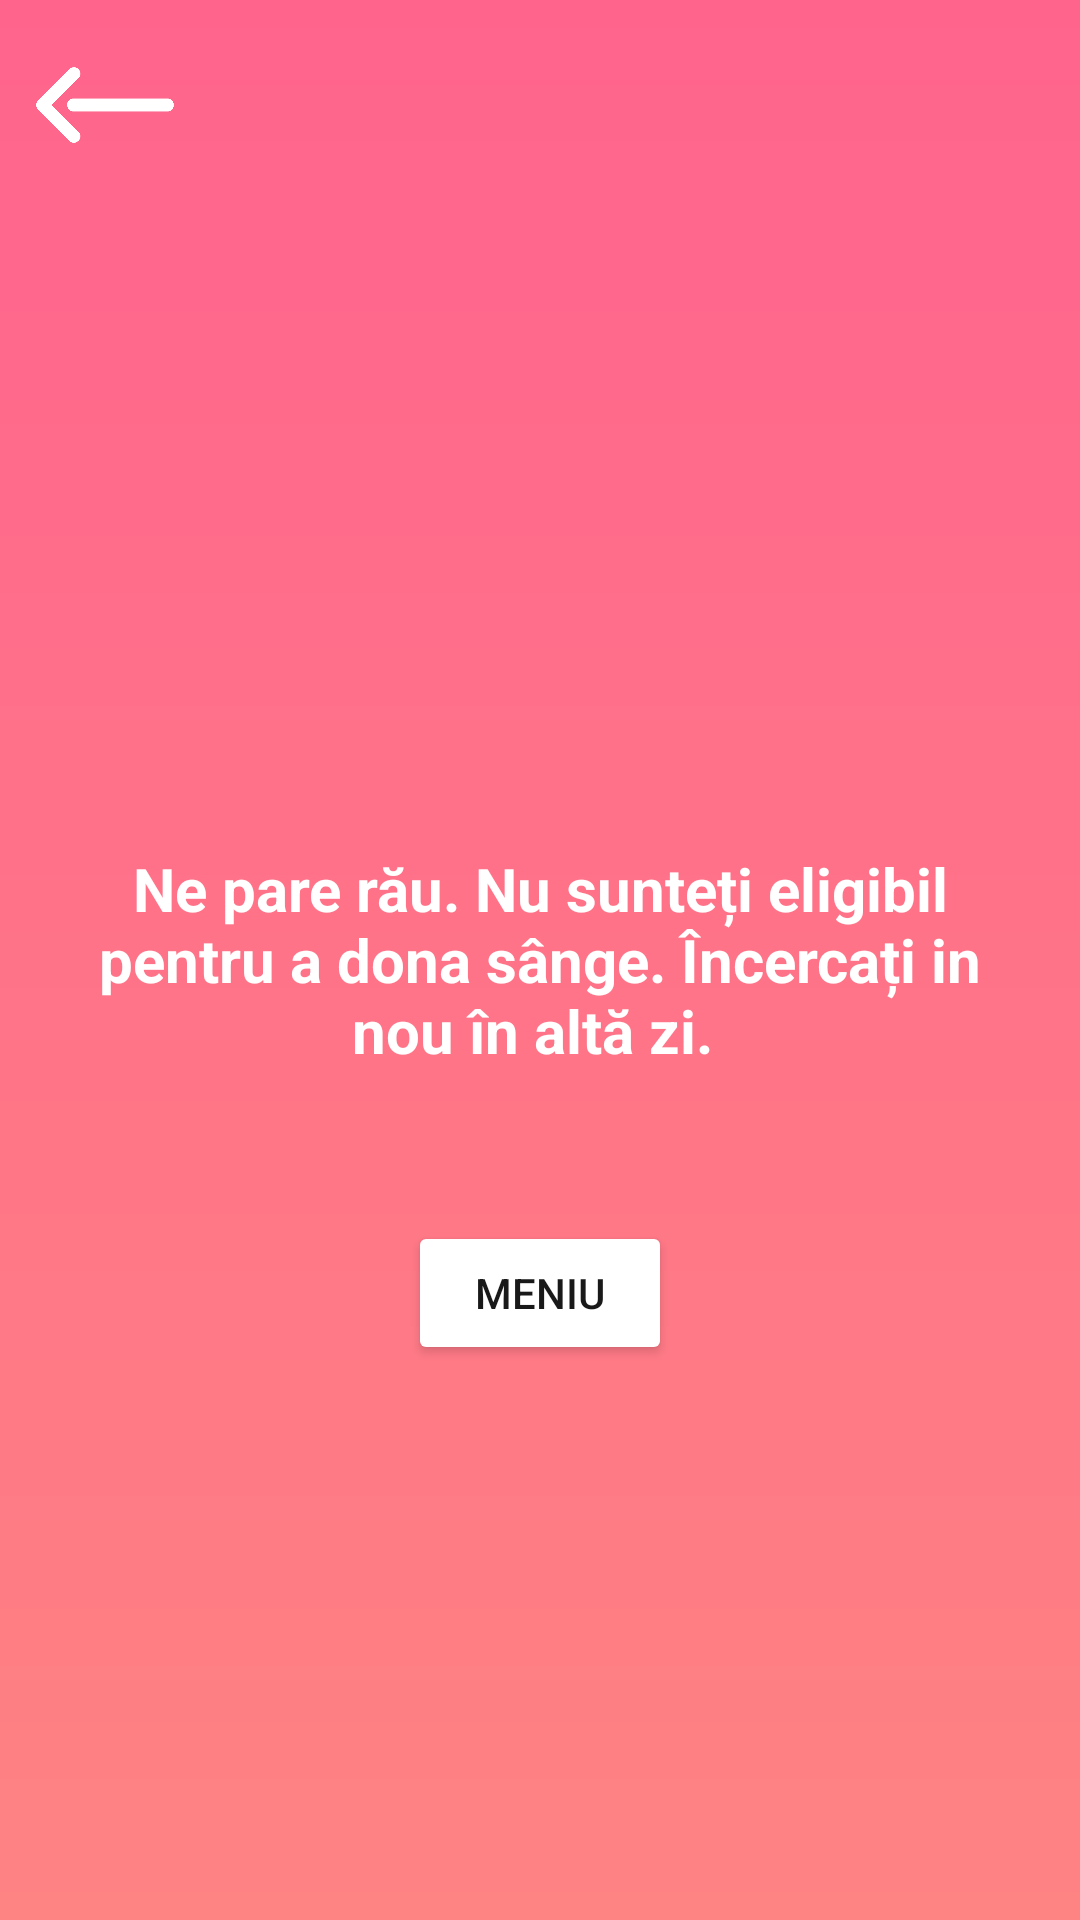

Screen size 1080px x 1920px. Icon name, then its center in pixels as (x,y):
back: (105,105)
